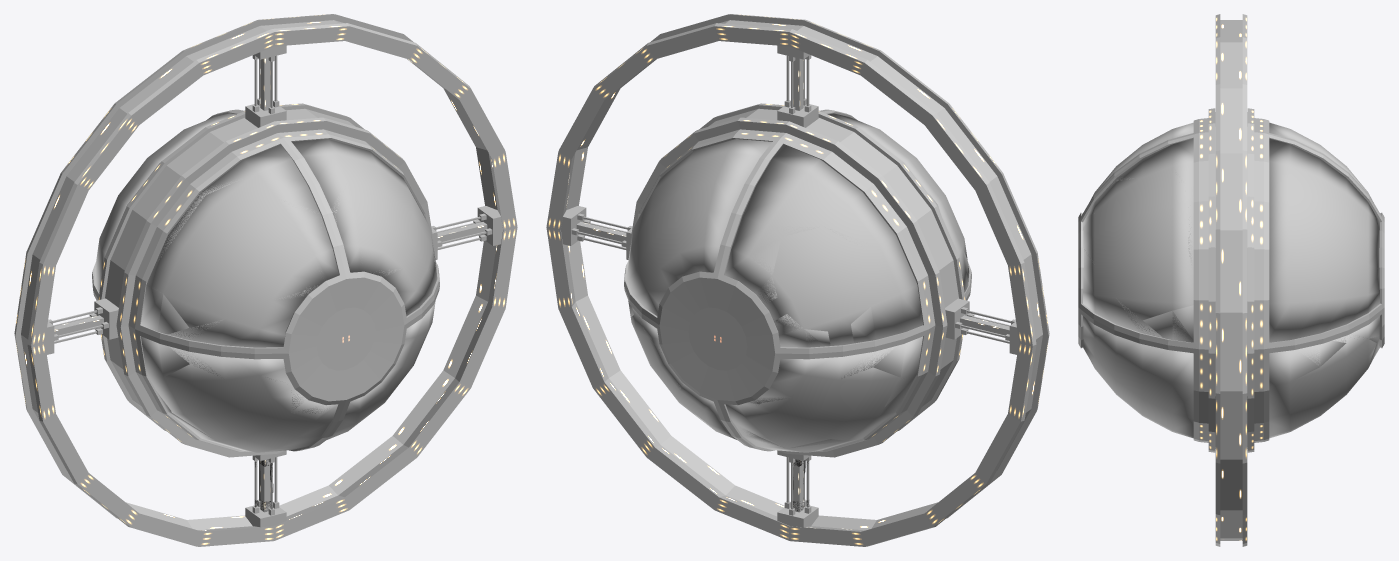
File: Station_biosphere.fbx
3 renders of one model, left to right at view 1: azimuth 30°, elevation 25°; view 2: azimuth 150°, elevation 25°; view 3: azimuth 270°, elevation 25°, orthographic. The views are drawn at different scales.
Visible parts, largest first — view 1: Biosphere_ring, Biosphere_glass, Biosphere_1, Biosphere_glass_2; view 2: Biosphere_ring, Biosphere_glass, Biosphere_1, Biosphere_glass_2; view 3: Biosphere_glass, Biosphere_ring, Biosphere_1, Biosphere_glass_2.
Part boxes in pixels (bbox=[...]): Biosphere_ring: bbox=[14, 14, 517, 546]; Biosphere_glass: bbox=[94, 113, 437, 452]; Biosphere_1: bbox=[92, 109, 439, 451]; Biosphere_glass_2: bbox=[147, 149, 436, 437]; Biosphere_ring: bbox=[546, 14, 1049, 546]; Biosphere_glass: bbox=[626, 113, 967, 452]; Biosphere_1: bbox=[624, 109, 971, 451]; Biosphere_glass_2: bbox=[628, 194, 969, 447]; Biosphere_glass: bbox=[1083, 122, 1379, 438]; Biosphere_ring: bbox=[1208, 14, 1254, 546]; Biosphere_1: bbox=[1078, 118, 1384, 442]; Biosphere_glass_2: bbox=[1084, 161, 1379, 413].
Bounding box in the file's own units: 15.68 × 27.47 × 27.47.
